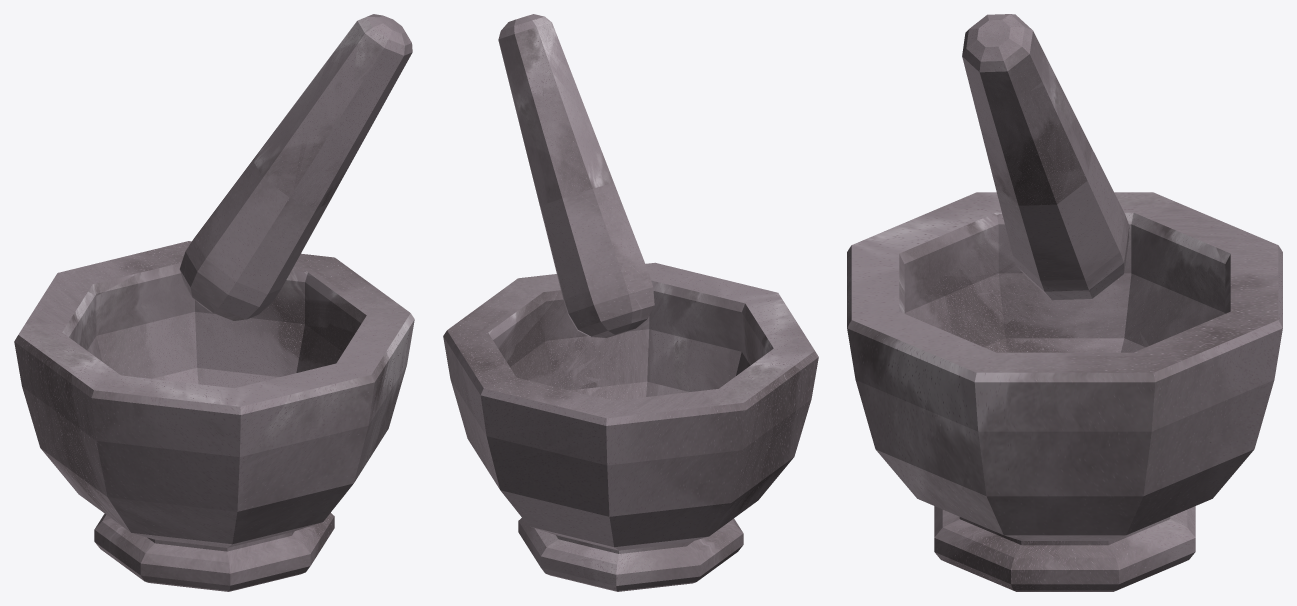
Rendered from mortarAndPestle.fbx.
3 views of the same model, side by side, from view 1: azimuth 30°, elevation 25°; view 2: azimuth 150°, elevation 25°; view 3: azimuth 270°, elevation 25° (orthographic). The views are drawn at different scales.
Parts seen in each view (by area): view 1: mortar, pestle; view 2: mortar, pestle; view 3: mortar, pestle.
Part boxes in pixels (x1,y1,x2,y2): mortar: [14, 241, 414, 591]; pestle: [179, 14, 412, 320]; mortar: [443, 262, 818, 591]; pestle: [498, 14, 654, 338]; mortar: [847, 192, 1282, 591]; pestle: [962, 14, 1129, 300].
Size of the model in its own units: 3.45 by 5.19 by 3.4.
1 material, 1 textured.
